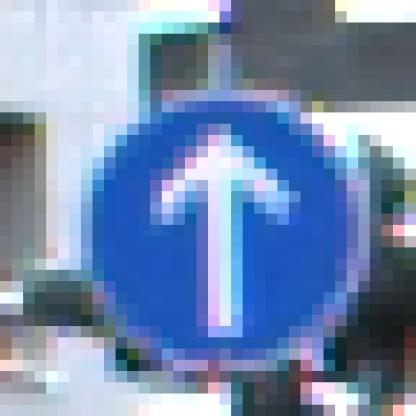AheadOnly: (71, 68, 360, 361)
